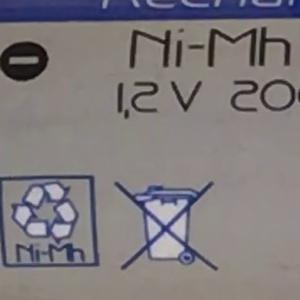keyword: (119, 17, 296, 79)
